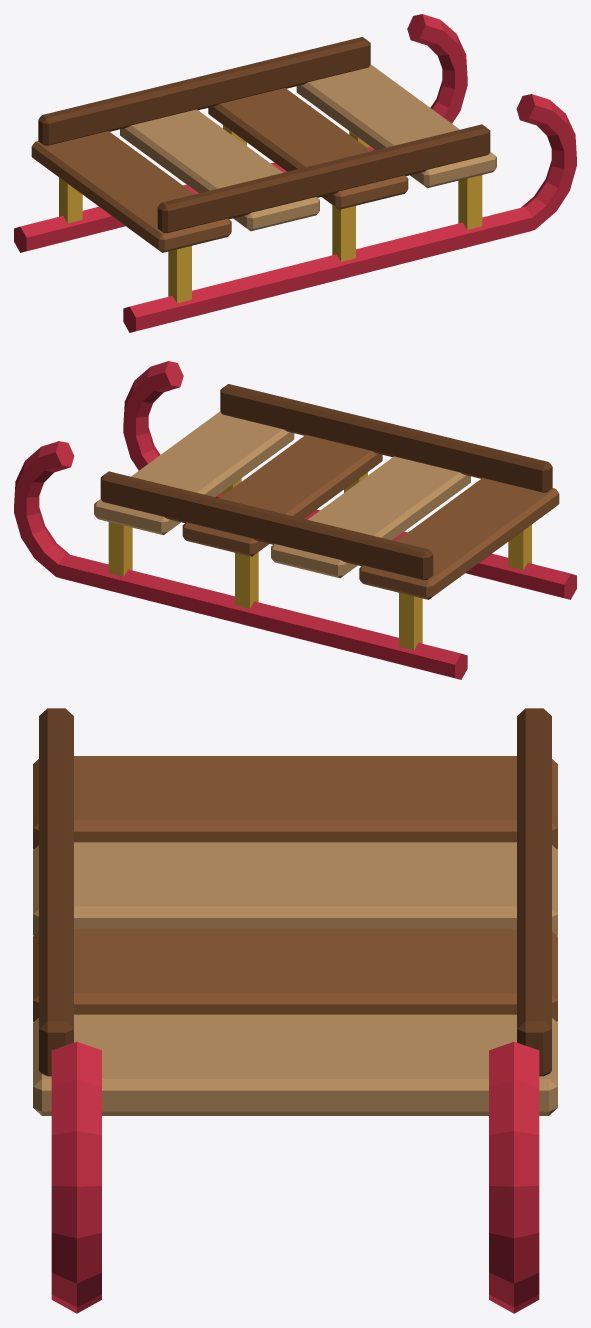
File: Sled.glb
3 views of the same model, one above another, from view 1: azimuth 30°, elevation 25°; view 2: azimuth 150°, elevation 25°; view 3: azimuth 270°, elevation 25° (orthographic). The views are drawn at different scales.
Parts seen in each view (by area): view 1: Sled; view 2: Sled; view 3: Sled.
Boxes of the visible parts, bbox=[...] form: Sled: bbox=[14, 14, 576, 332]; Sled: bbox=[14, 361, 576, 679]; Sled: bbox=[33, 708, 557, 1313].
Bounding box in the file's own units: 3.54 × 1.07 × 1.8.
